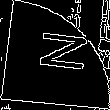N_W: (25, 32, 85, 78)
